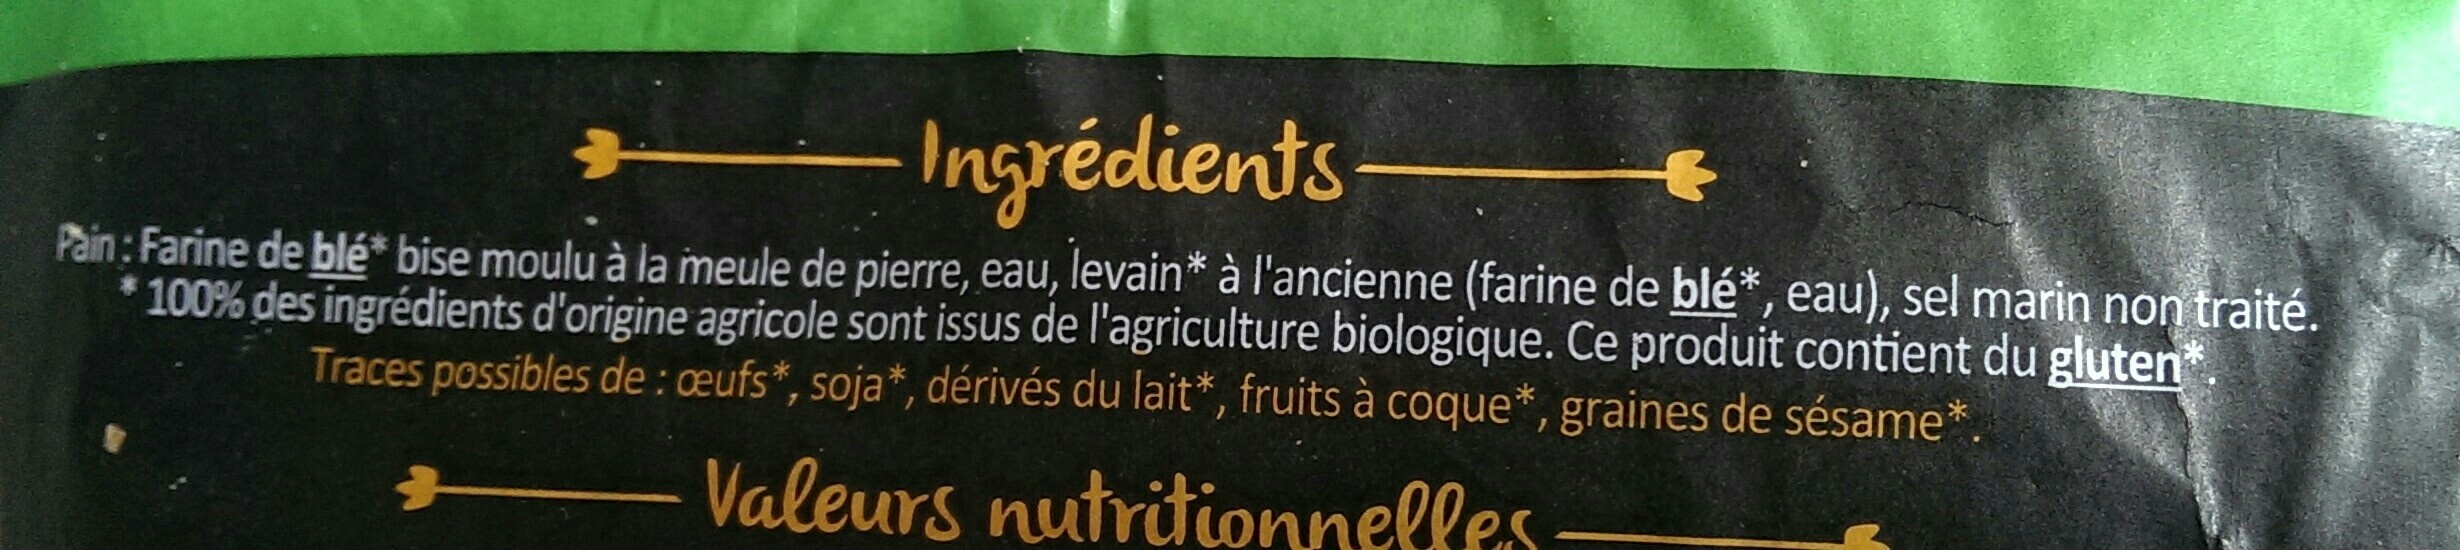ingredients: (28, 64, 2349, 456)
